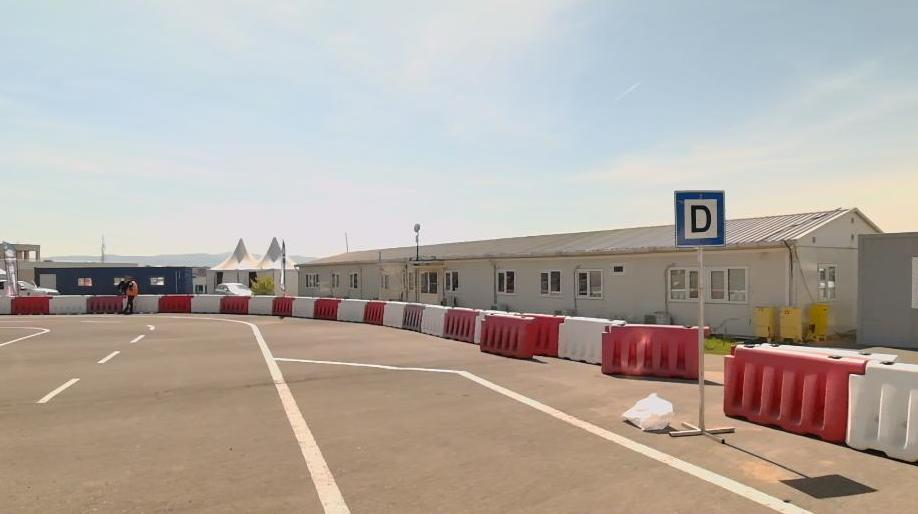nesne: (263, 356, 810, 514), (264, 361, 811, 514), (0, 326, 350, 514), (0, 330, 347, 514), (252, 324, 351, 514), (0, 328, 153, 432), (723, 344, 863, 444), (670, 248, 734, 442), (847, 359, 915, 463), (602, 325, 696, 380), (557, 316, 622, 364), (673, 189, 725, 246), (480, 312, 534, 358), (623, 392, 674, 431), (443, 306, 479, 343), (533, 315, 562, 357), (37, 376, 78, 402), (421, 304, 447, 337), (49, 294, 91, 313), (11, 294, 49, 313), (337, 298, 365, 322), (0, 330, 44, 345), (158, 293, 191, 313), (91, 294, 123, 313), (122, 275, 137, 314), (384, 300, 405, 327), (364, 299, 385, 326), (219, 294, 247, 314), (314, 298, 338, 320), (404, 303, 423, 330), (192, 293, 219, 312), (135, 293, 159, 314), (248, 295, 272, 314), (293, 297, 315, 317), (272, 295, 294, 315), (98, 350, 120, 363), (130, 334, 144, 342)
